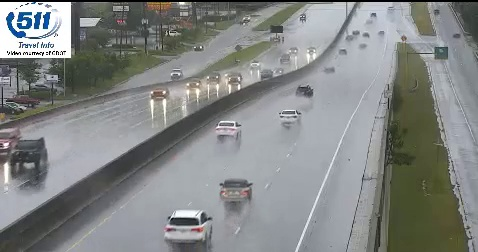car: (165, 210, 212, 242), (220, 179, 252, 202), (215, 121, 241, 139), (279, 109, 300, 125), (296, 84, 313, 98)
